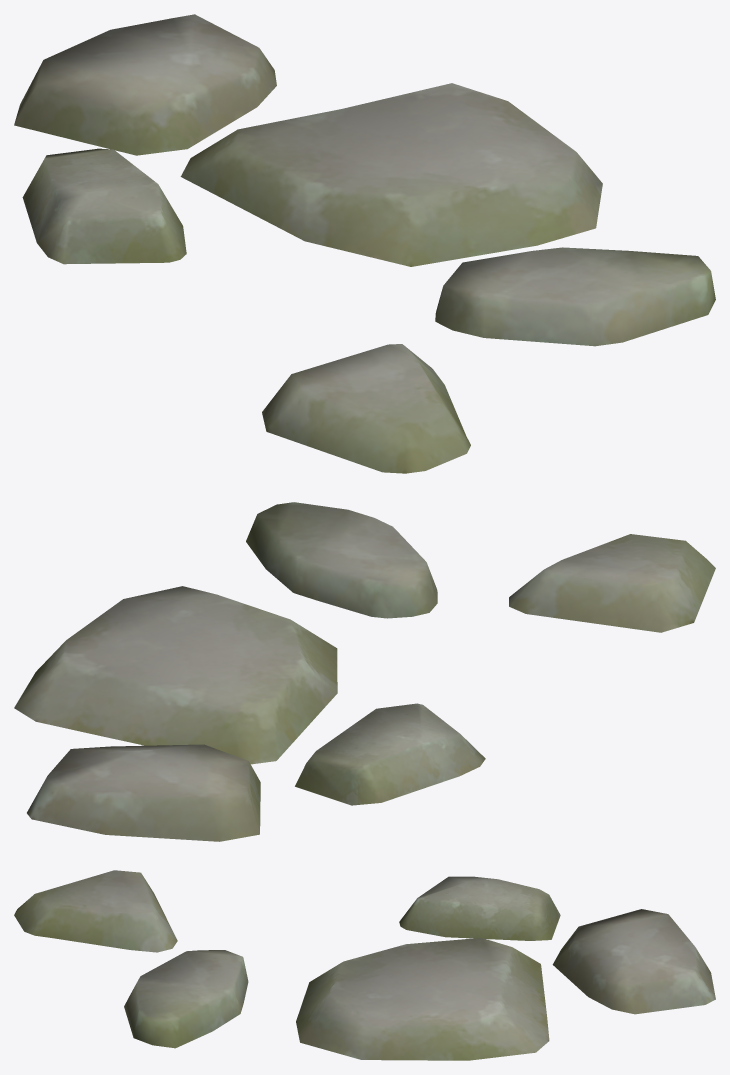
File: JZ_Shiban_A_01.fbx
The picture shows the model from 3 angles, top to bottom: view 1: azimuth 30°, elevation 25°; view 2: azimuth 150°, elevation 25°; view 3: azimuth 270°, elevation 25°; orthographic projection. The views are drawn at different scales.
Visible parts, largest first — view 1: JZ_Shiban_A_01; view 2: JZ_Shiban_A_01; view 3: JZ_Shiban_A_01.
Boxes of the visible parts, x1,y1,x2,y2 form: JZ_Shiban_A_01: (14, 14, 715, 473); JZ_Shiban_A_01: (14, 502, 715, 841); JZ_Shiban_A_01: (14, 870, 715, 1060).
Size of the model in its own units: 135 by 12.28 by 233.
